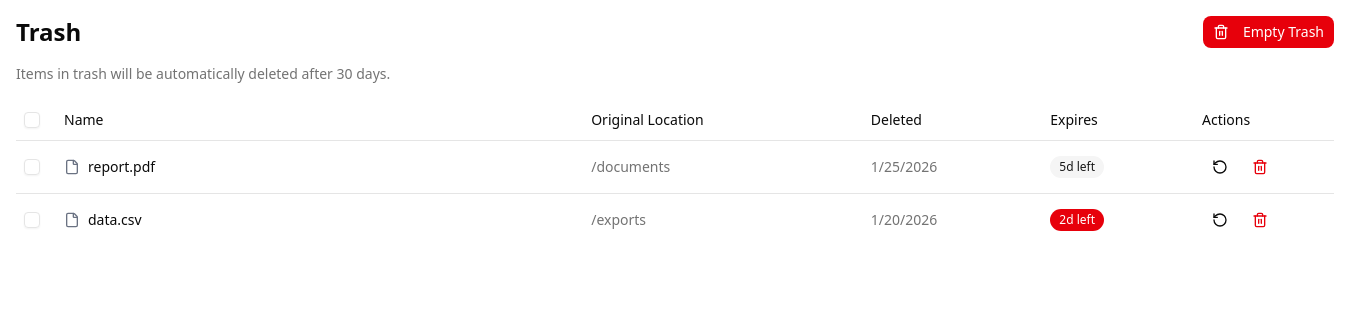
Test case: TrashPage › should toggle selection checkbox
This screenshot has width=1351, height=314.
Click the checkbox named "Select report.pdf". click: {"x": 32, "y": 166}
box: [24,158,40,174]
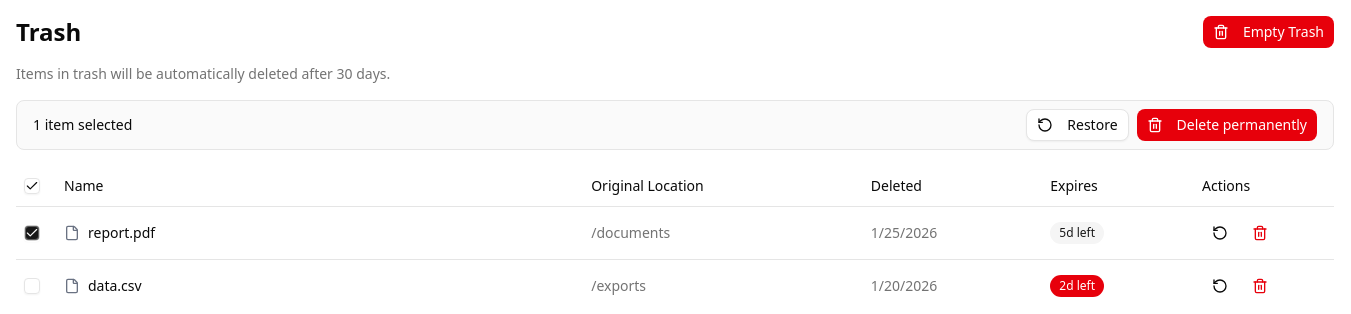
expect the text "1 item selected" is shown: met, box [33,115,132,135]
